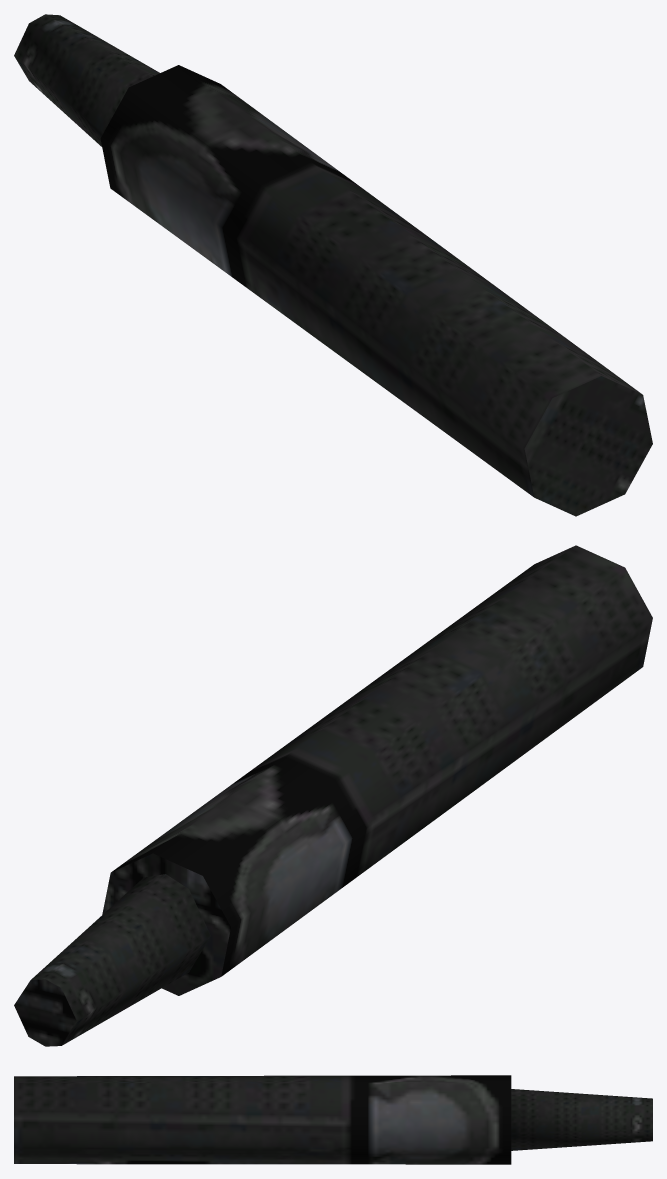
Rendered from SMG_cfq_xsq_01_lod1_Suppressor_LOD_(000875).glb.
3 views of the same model, one above another, from view 1: azimuth 30°, elevation 25°; view 2: azimuth 150°, elevation 25°; view 3: azimuth 270°, elevation 25° (orthographic). The views are drawn at different scales.
Visible parts, largest first — view 1: cfq_xsq_01_lod1; view 2: cfq_xsq_01_lod1; view 3: cfq_xsq_01_lod1.
Boxes of the visible parts, x1,y1,x2,y2 form: cfq_xsq_01_lod1: [14, 14, 652, 516]; cfq_xsq_01_lod1: [14, 545, 652, 1046]; cfq_xsq_01_lod1: [14, 1075, 652, 1164].
Size of the model in its own units: 0.0465 by 0.0465 by 0.3356.
Materials: 1 (1 with a texture image).
